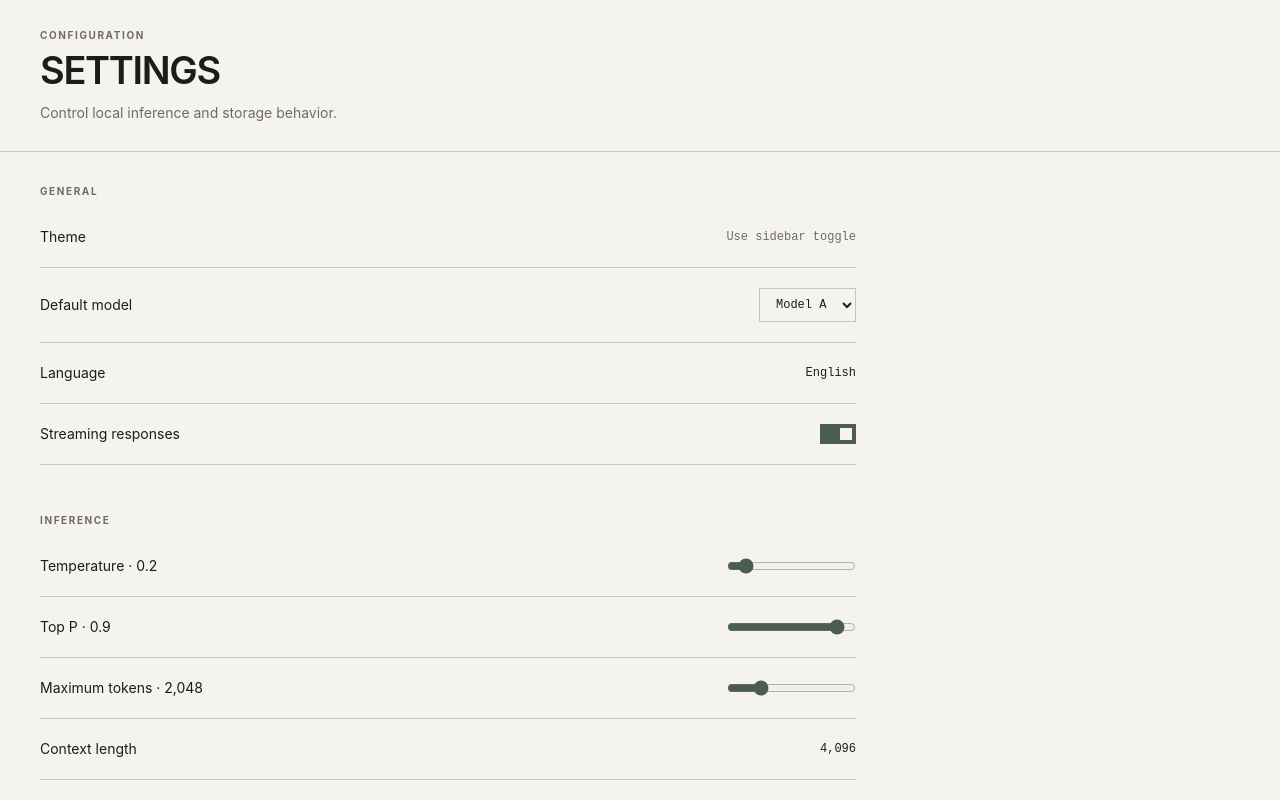
Settings page › persists the streaming toggle and exposes the 8192 token limit
Click the switch named "Streaming responses".
click(838, 434)  # box x1=820 y1=424 x2=856 y2=444
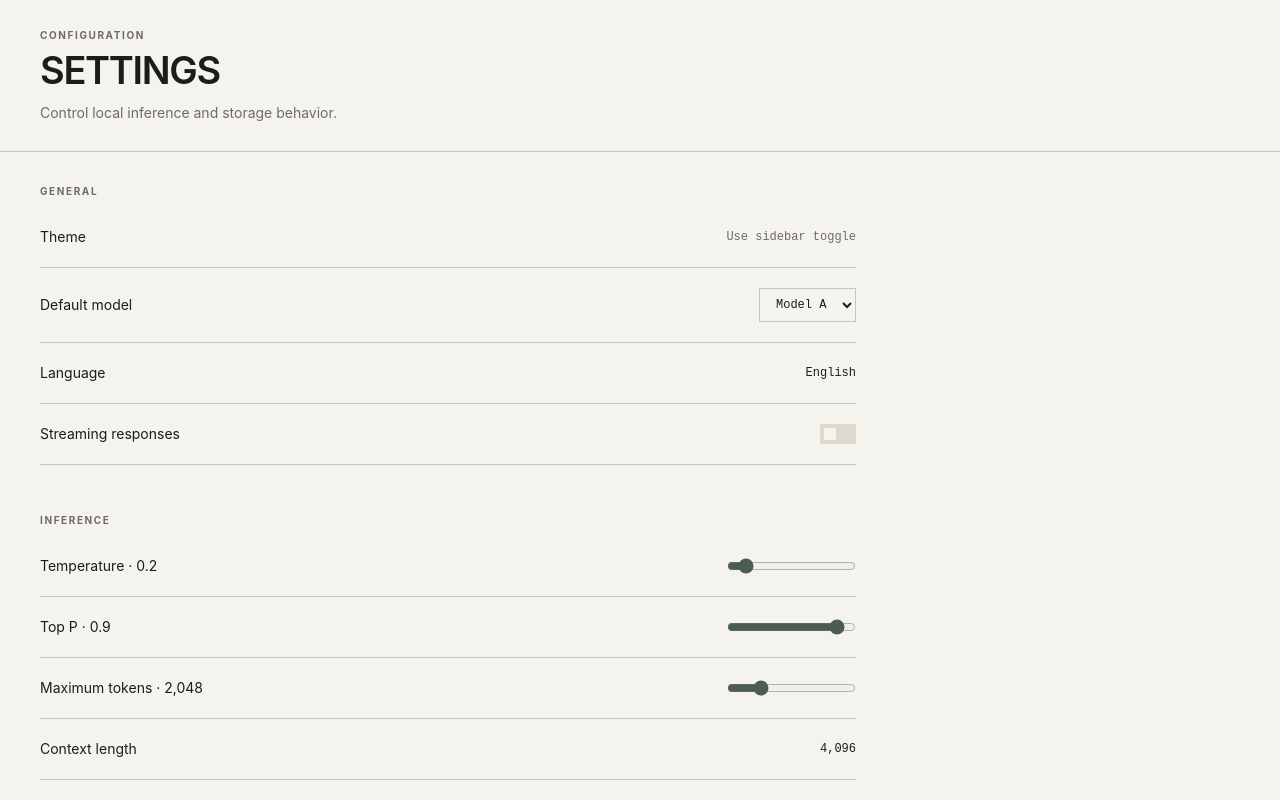
Expected: the switch named "Streaming responses" is not checked, x1=820 y1=424 x2=856 y2=444
